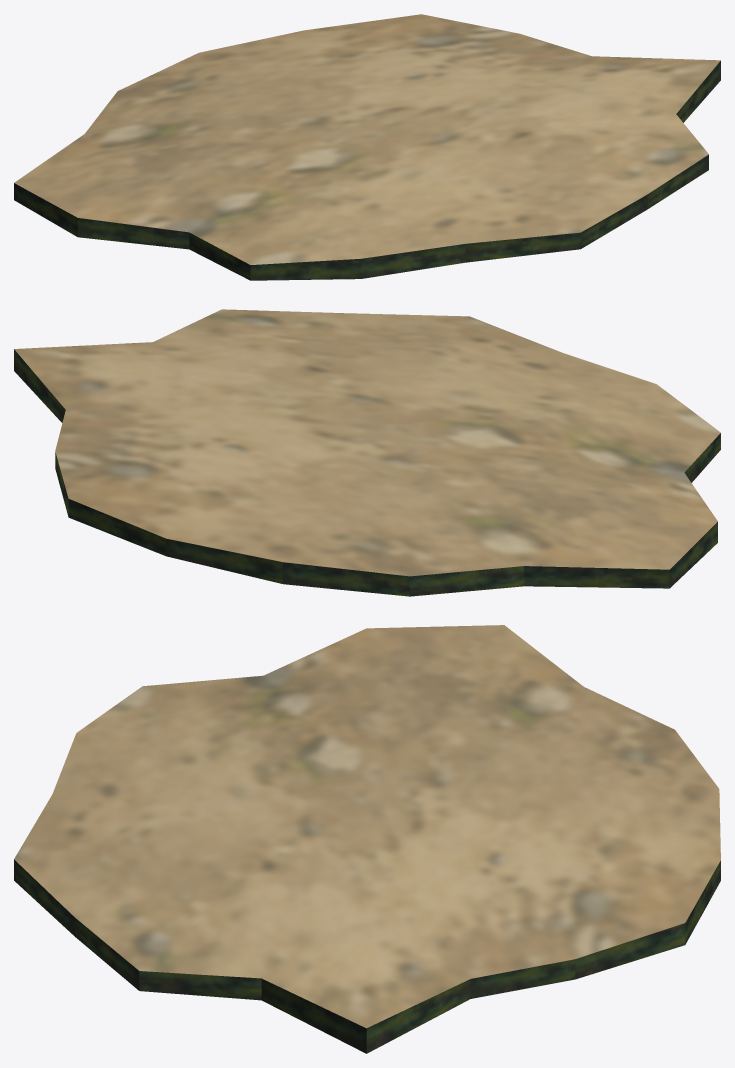
The model's file is Ground_Dirt_A.glb.
The picture shows the model from 3 angles, top to bottom: view 1: azimuth 30°, elevation 25°; view 2: azimuth 150°, elevation 25°; view 3: azimuth 270°, elevation 25°; orthographic projection. The views are drawn at different scales.
Parts seen in each view (by area): view 1: Ground_Dirt_A; view 2: Ground_Dirt_A; view 3: Ground_Dirt_A.
Part boxes in pixels (x1,y1,x2,y2): Ground_Dirt_A: [14, 14, 720, 280]; Ground_Dirt_A: [14, 309, 720, 596]; Ground_Dirt_A: [14, 625, 720, 1053].
Bounding box in the file's own units: 4.12 × 0.19 × 3.03.
1 material, 1 textured.
